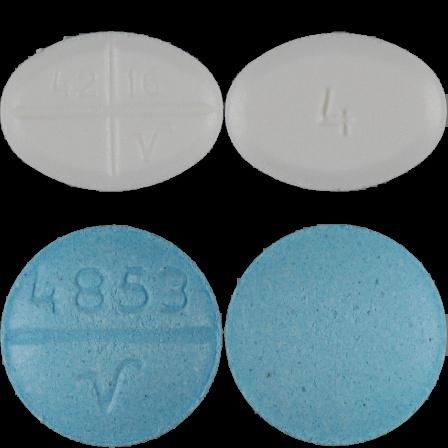0603-4593: (0, 0, 224, 224)
